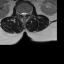CCS_normal: (23, 10, 25, 19)
LFS_stenosis: (27, 10, 29, 16)
LLS_normal: (25, 10, 27, 16)
RFS_normal: (19, 11, 21, 16)
RLS_normal: (21, 10, 23, 16)
